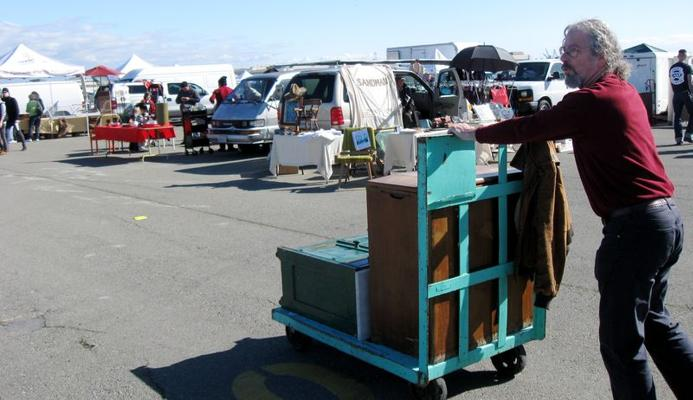person: (448, 21, 693, 400)
